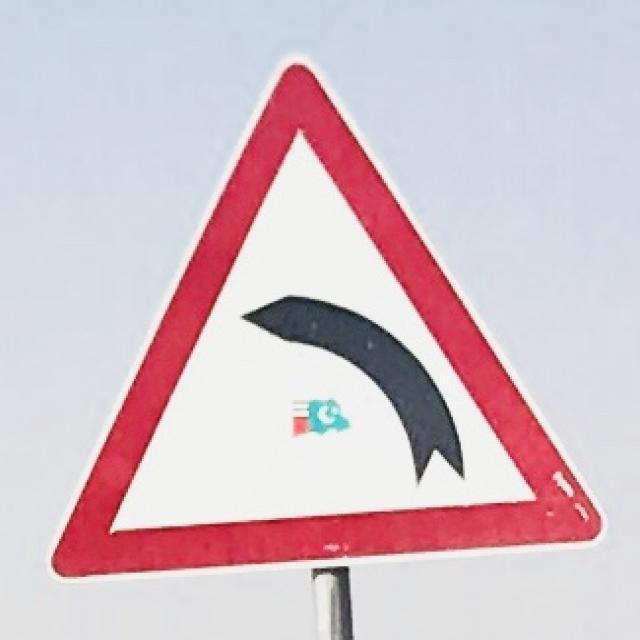left hand curve: (40, 47, 610, 592)
